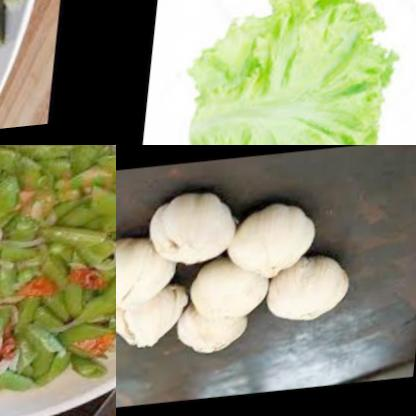fasol: (0, 145, 116, 416), (0, 0, 70, 62)
garlic: (229, 203, 325, 288), (148, 190, 244, 274), (267, 256, 361, 333), (169, 296, 264, 366), (187, 265, 278, 337), (116, 288, 193, 353), (116, 239, 180, 307)
salad: (174, 0, 416, 145)
